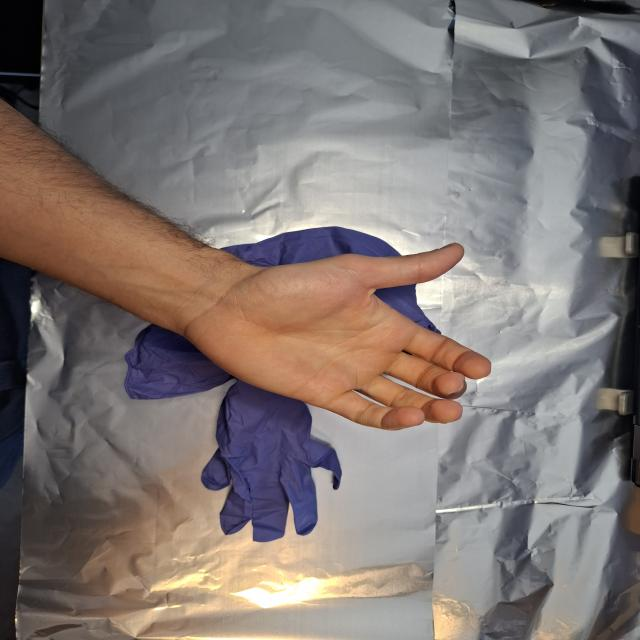glove_off: (179, 241, 495, 432)
